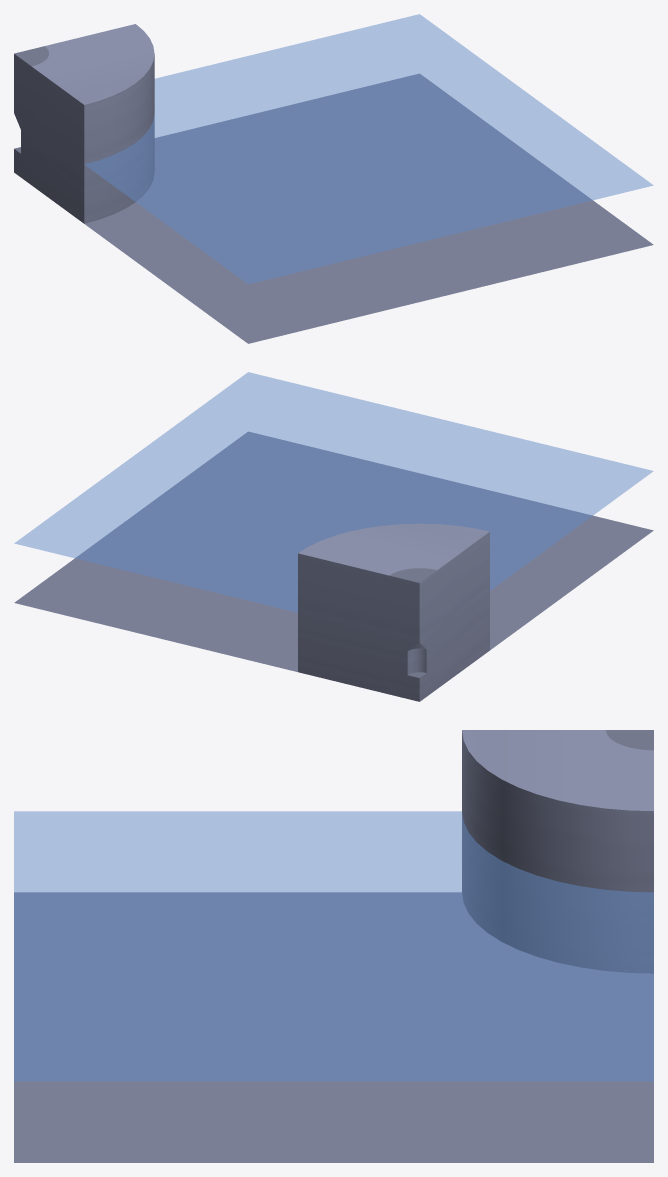
File: fountainCornerInner.fbx
The picture shows the model from 3 angles, top to bottom: view 1: azimuth 30°, elevation 25°; view 2: azimuth 150°, elevation 25°; view 3: azimuth 270°, elevation 25°; orthographic projection. The views are drawn at different scales.
Visible parts, largest first — view 1: fountainCornerInner; view 2: fountainCornerInner; view 3: fountainCornerInner.
Part boxes in pixels (x1,y1,x2,y2): fountainCornerInner: [14, 14, 653, 343]; fountainCornerInner: [14, 372, 653, 701]; fountainCornerInner: [14, 730, 653, 1162].
Bounding box in the file's own units: 1 × 1 × 0.28.
